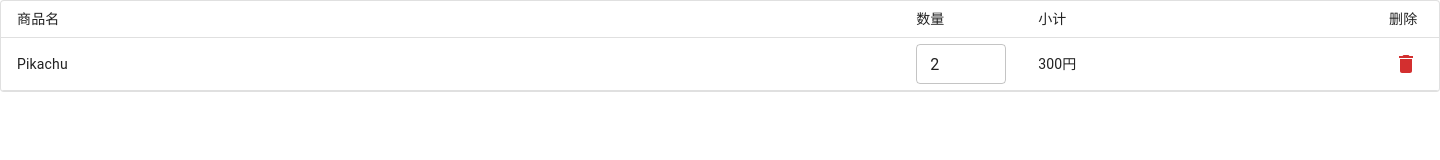
OrderDetailLinesTable › does not save a quantity of 0 and shows the saved one again
Replace the text in the number field named "Pikachu 数量" with "0" at (961, 64), box [916,44,1006,84]
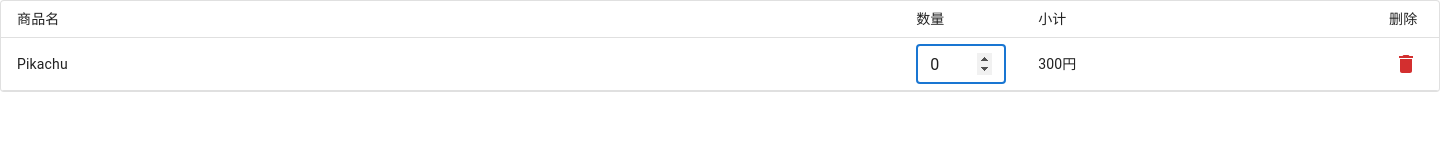
Press Tab
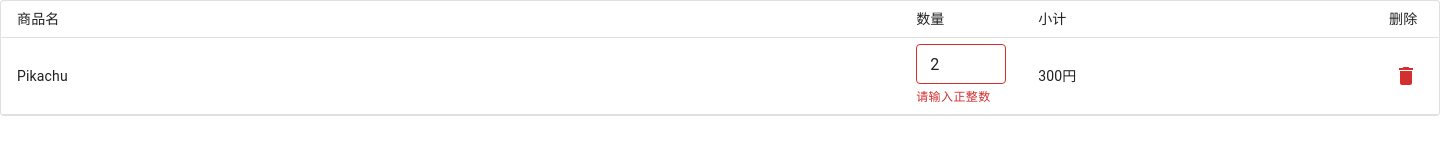
Expected: the number field named "Pikachu 数量" holds "2", [916,44,1006,84]
